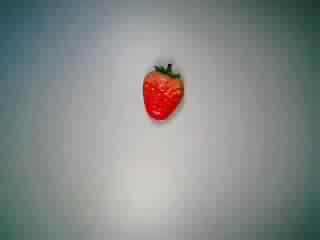strawberry: (126, 58, 199, 122)
